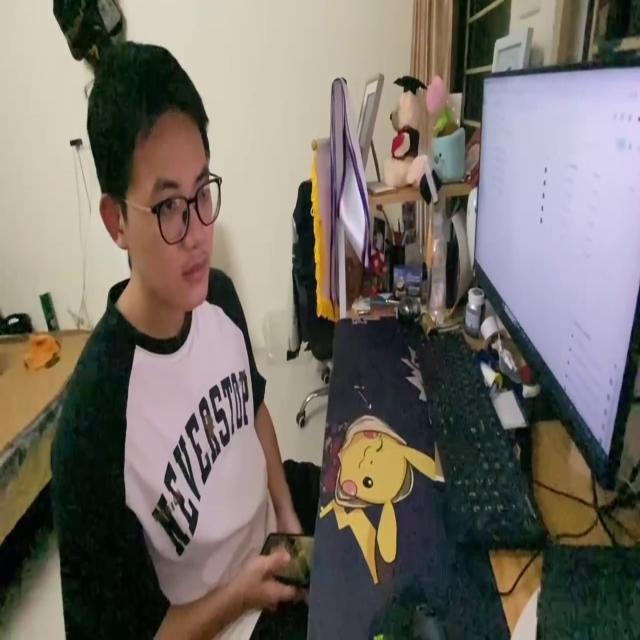laptop: (470, 51, 640, 490)
phone: (258, 522, 314, 586)
student: (48, 37, 311, 640)
